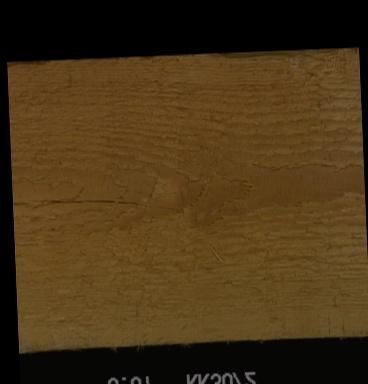split: (12, 199, 139, 209)
wave: (211, 49, 338, 57), (6, 60, 53, 66)
